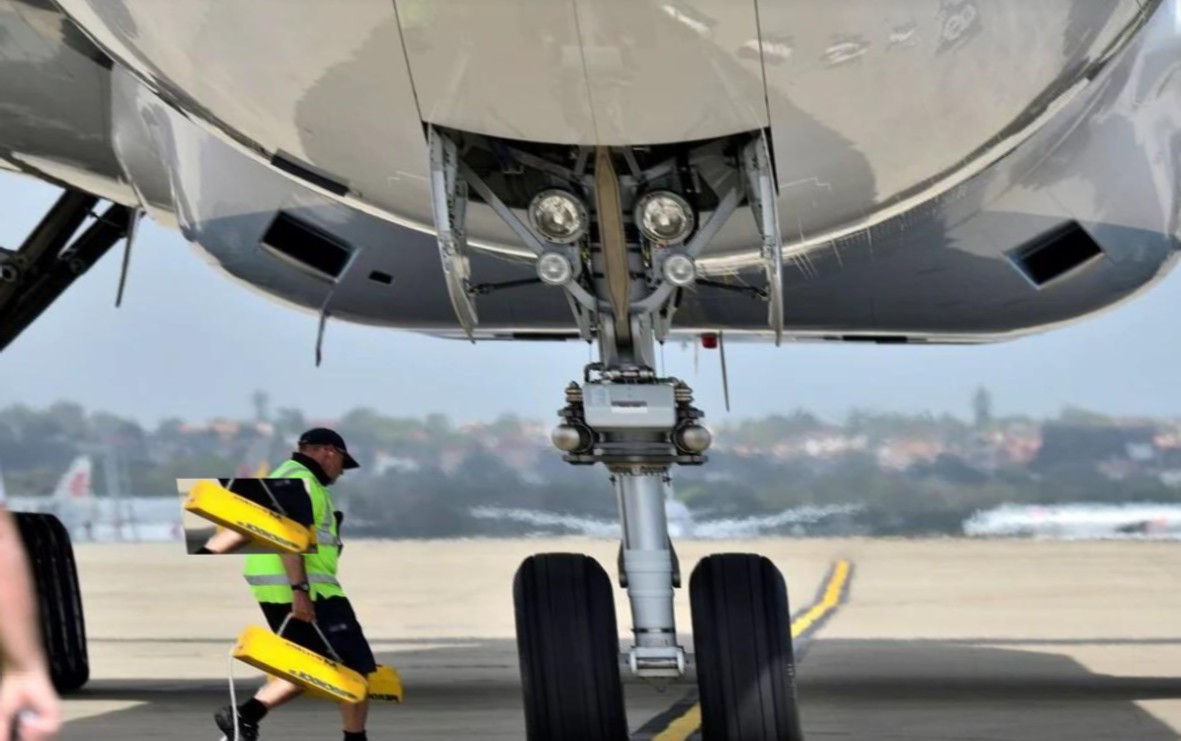chock: (224, 623, 377, 706), (177, 478, 319, 555), (265, 661, 405, 702)
wheel: (504, 552, 637, 741), (684, 552, 811, 741), (14, 513, 96, 692)
